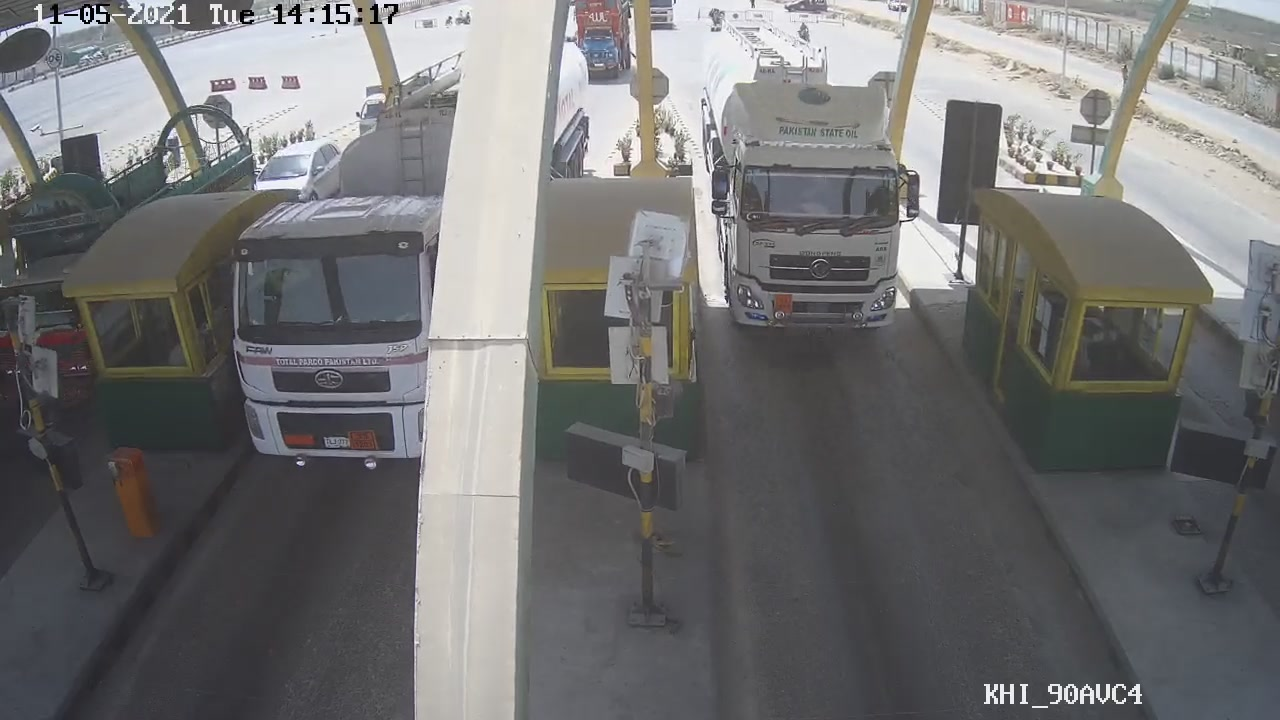F6: (703, 13, 918, 346)
